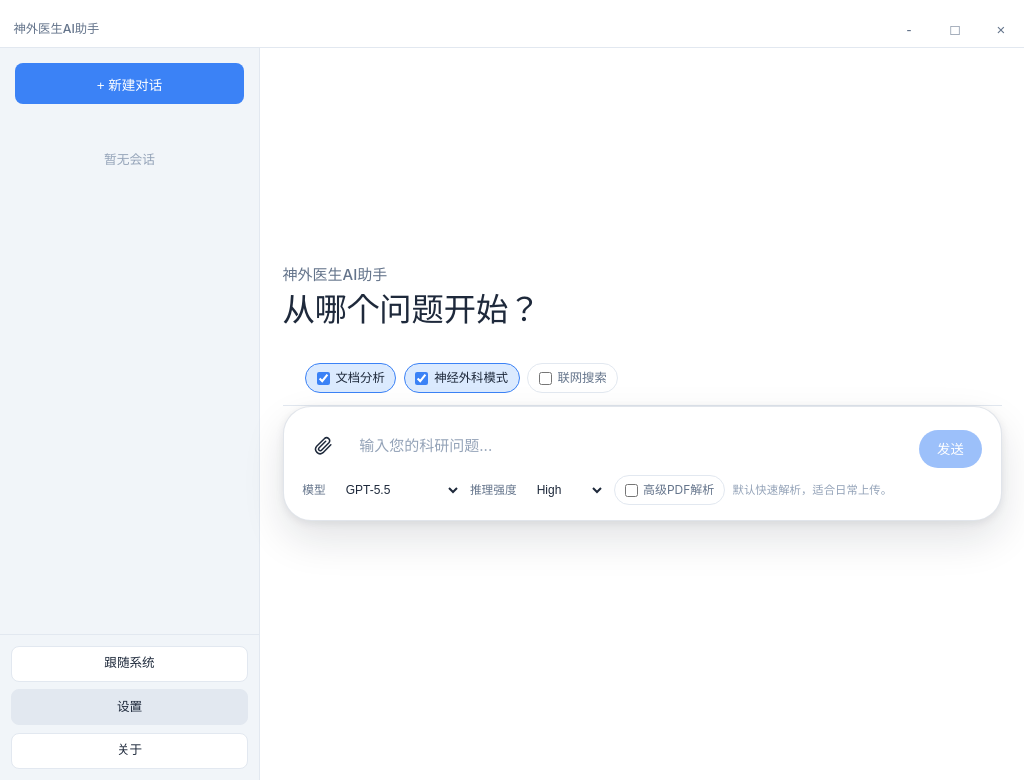
Test: App settings controls › shows the current theme in the sidebar footer and saves the next value when clicked
Click the button "跟随系统". click: [130, 664]
box: [11,646,248,682]
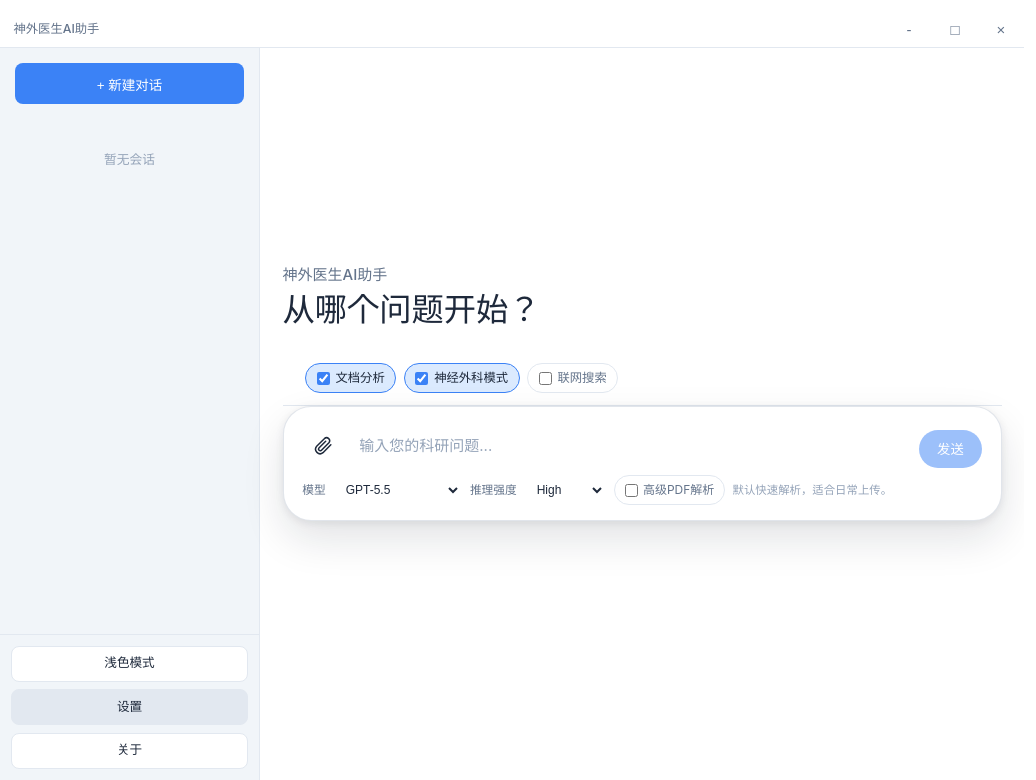
Now the button "浅色模式" is shown, box [11,646,248,682]
